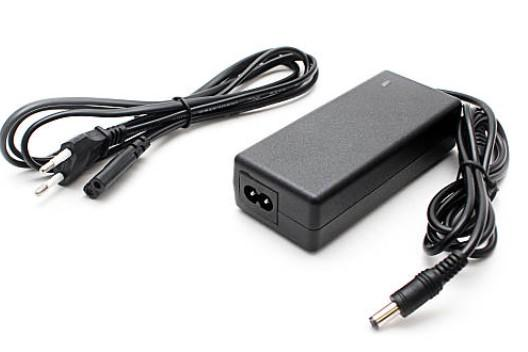cable: (234, 71, 510, 328), (0, 47, 317, 198)
